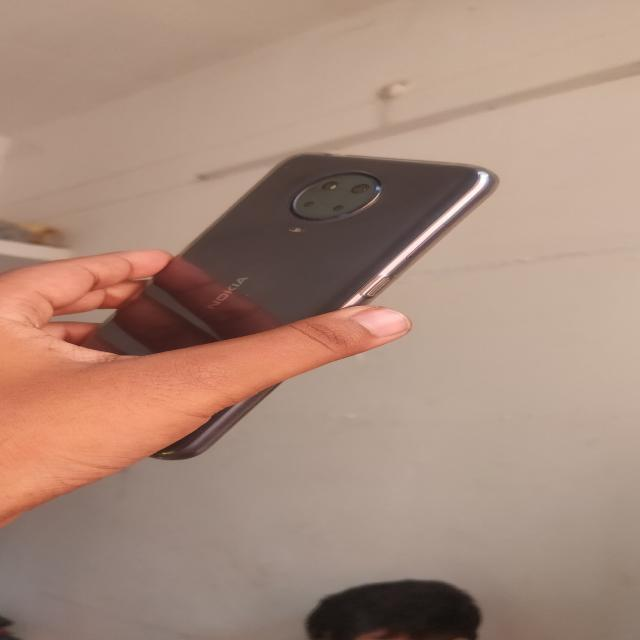Phone: (82, 147, 501, 465)
